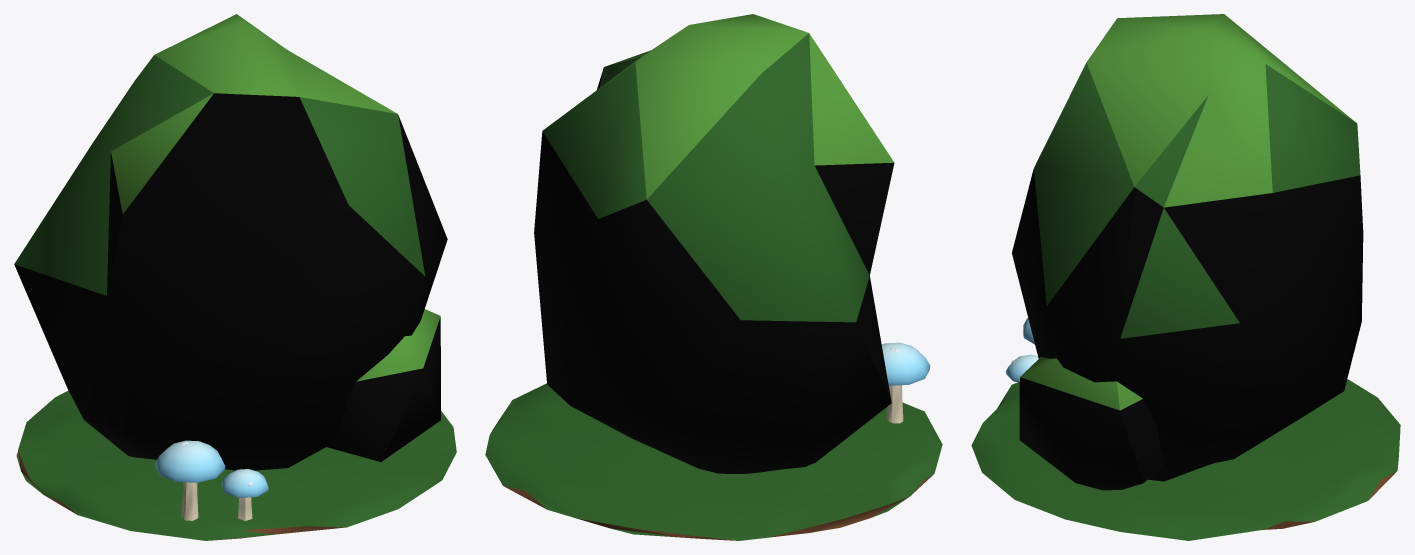
The model's file is MossBoulderA.fbx.
3 views of the same model, side by side, from view 1: azimuth 30°, elevation 25°; view 2: azimuth 150°, elevation 25°; view 3: azimuth 270°, elevation 25° (orthographic). The views are drawn at different scales.
Visible parts, largest first — view 1: MossBoulderA; view 2: MossBoulderA; view 3: MossBoulderA.
Part boxes in pixels (x1,y1,x2,y2): MossBoulderA: [14, 14, 456, 540]; MossBoulderA: [485, 14, 942, 540]; MossBoulderA: [971, 14, 1400, 540].
Bounding box in the file's own units: 1.69 × 1.73 × 1.6.
2 materials, 2 textured.
